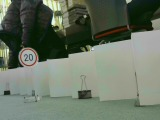speed_20: (18, 47, 38, 67)
